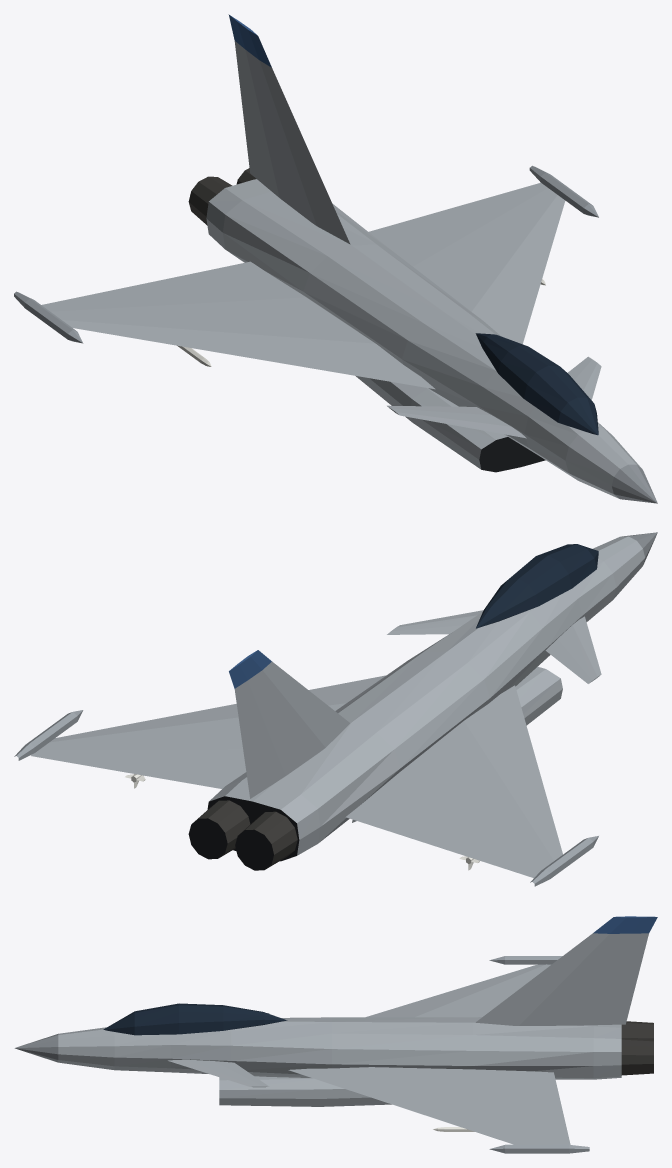
File: ecf90.glb
3 views of the same model, one above another, from view 1: azimuth 30°, elevation 25°; view 2: azimuth 150°, elevation 25°; view 3: azimuth 270°, elevation 25° (orthographic). The views are drawn at different scales.
Parts seen in each view (by area): view 1: ecf90; view 2: ecf90; view 3: ecf90.
Boxes of the visible parts, x1,y1,x2,y2 form: ecf90: (14,14,657,503); ecf90: (14,532,657,886); ecf90: (14,916,657,1153).
Bounding box in the file's own units: 11.31 × 4.95 × 16.
